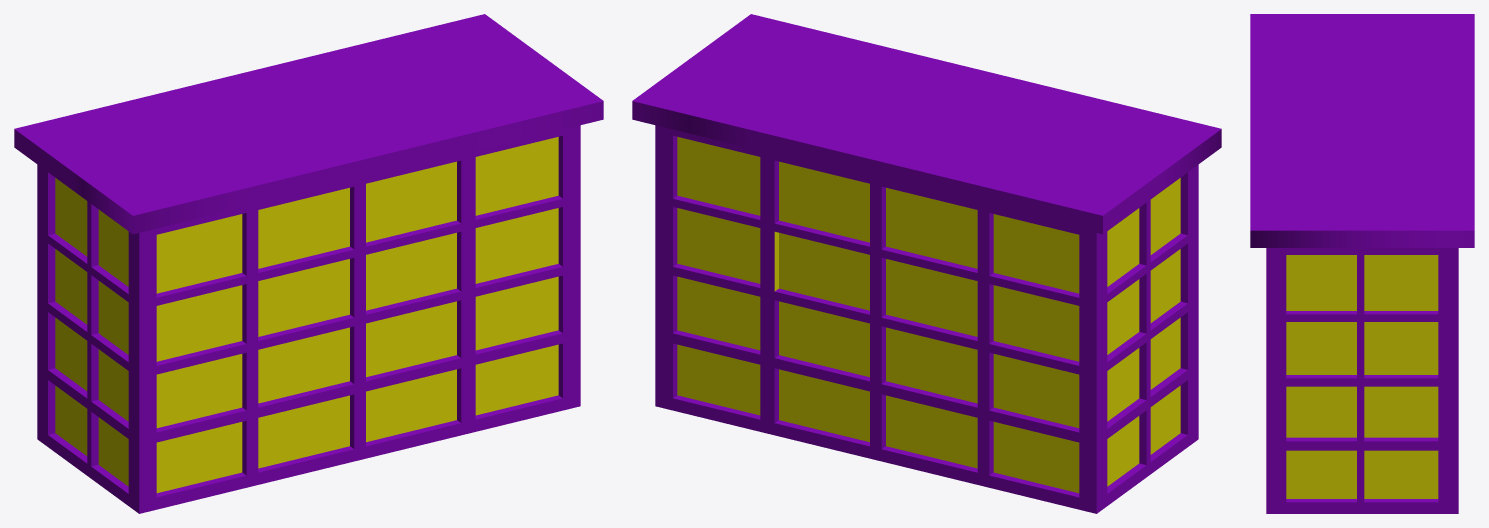
Rendered from Building_Large_Side_002.fbx.
3 views of the same model, side by side, from view 1: azimuth 30°, elevation 25°; view 2: azimuth 150°, elevation 25°; view 3: azimuth 270°, elevation 25° (orthographic). The views are drawn at different scales.
Visible parts, largest first — view 1: Building_Large_Side_002; view 2: Building_Large_Side_002; view 3: Building_Large_Side_002.
Part boxes in pixels (x1,y1,x2,y2): Building_Large_Side_002: [14, 14, 603, 513]; Building_Large_Side_002: [632, 14, 1221, 513]; Building_Large_Side_002: [1250, 14, 1474, 513].
Bounding box in the file's own units: 6400 × 4000 × 2800.
